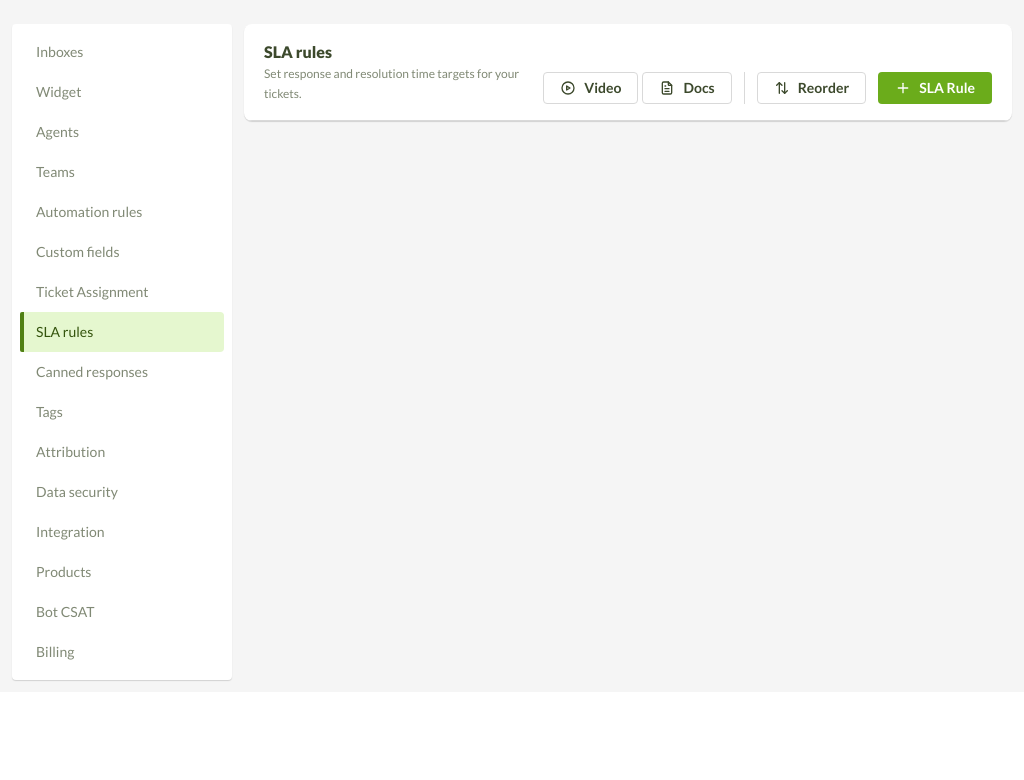
Test case: SettingsScreen SLA rule reordering › moves a rule with the keyboard and keeps the new order after saving
This screenshot has width=1024, height=780.
Click the button "Reorder".
click(811, 88)  # box [757,72,866,104]
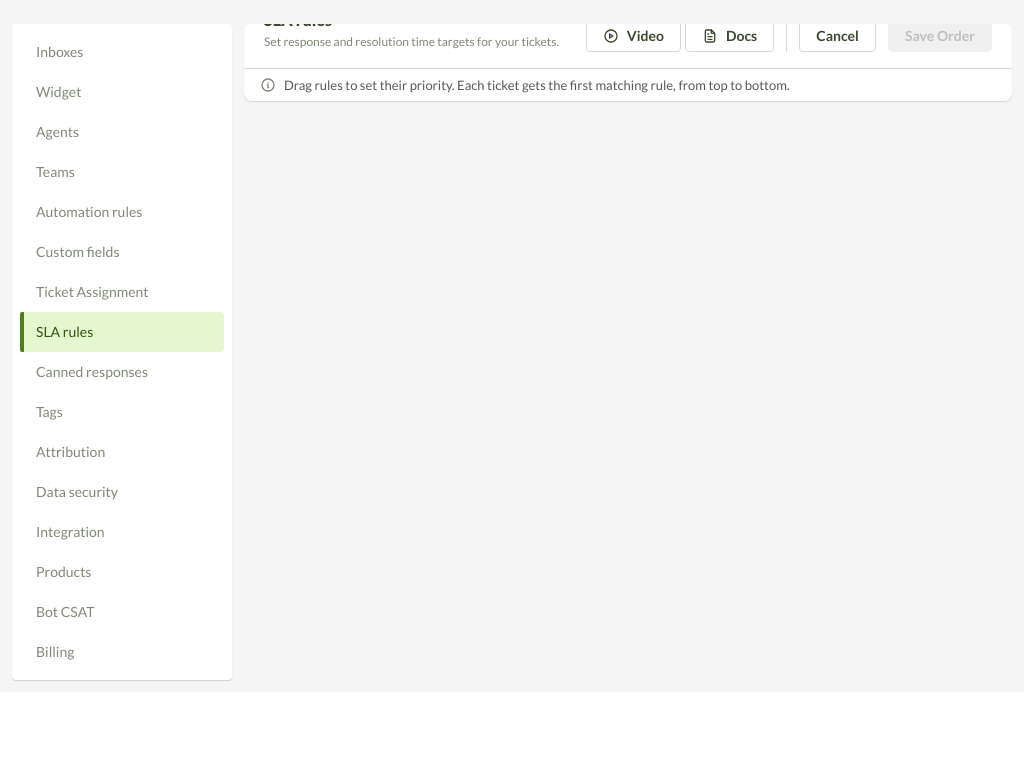
Now the button "Save order" is disabled, box [888,24,992,52]
Press Arrowdown
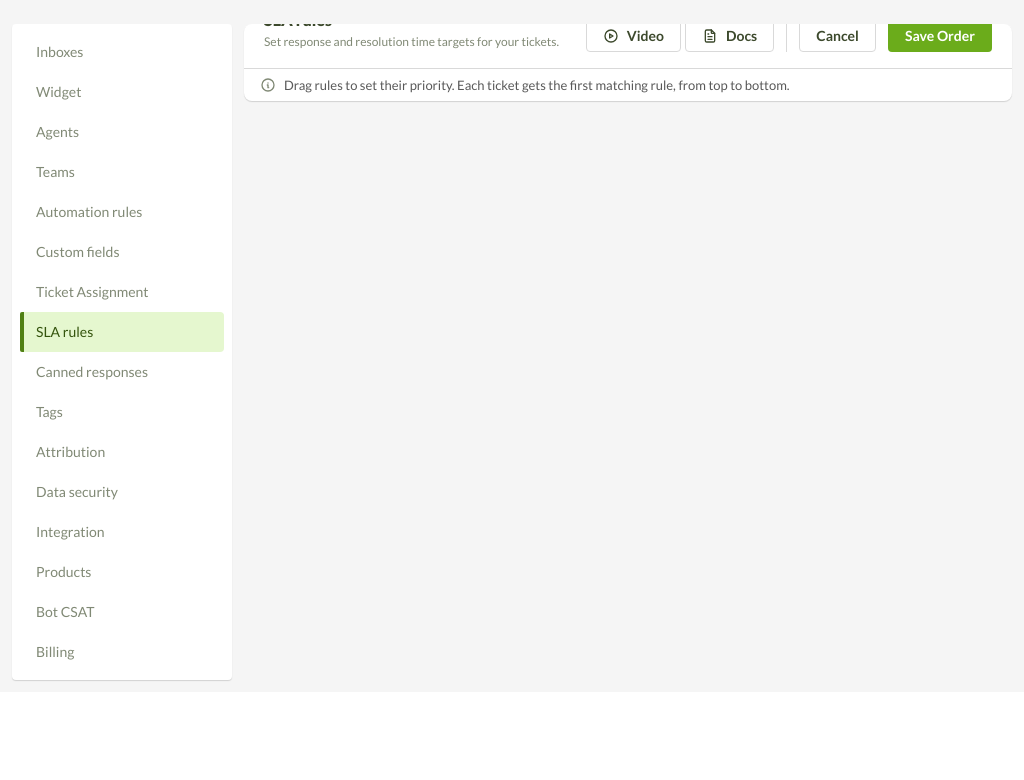
Click the button "Save order".
click(940, 36)  # box [888,20,992,52]
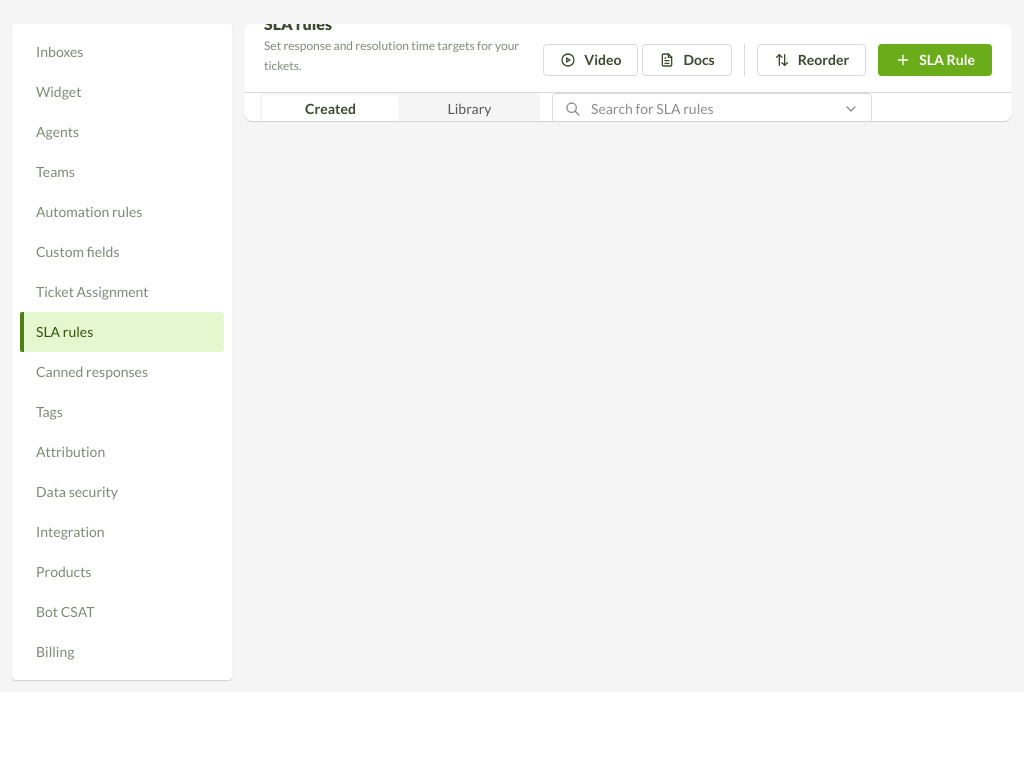
Now the button "Reorder" is shown, box [757,44,866,76]
